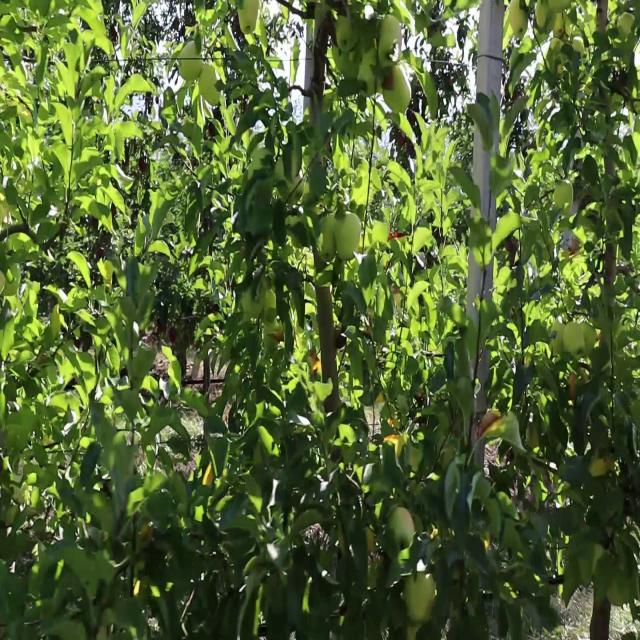apple: (404, 572, 436, 622), (383, 69, 413, 118), (385, 507, 414, 556), (377, 13, 402, 68), (335, 212, 361, 260), (198, 64, 224, 108), (316, 215, 338, 265), (177, 42, 202, 81), (357, 50, 376, 101), (507, 0, 528, 39), (336, 13, 356, 52), (238, 0, 260, 35), (552, 179, 574, 214), (579, 319, 597, 356), (564, 320, 581, 354), (549, 316, 564, 354), (617, 11, 637, 39)
